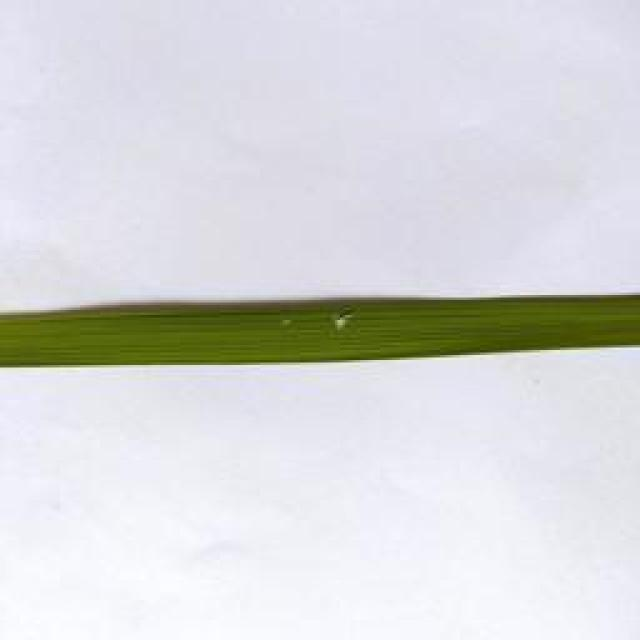Healthy-Plant: (0, 299, 328, 373), (363, 299, 640, 356)
